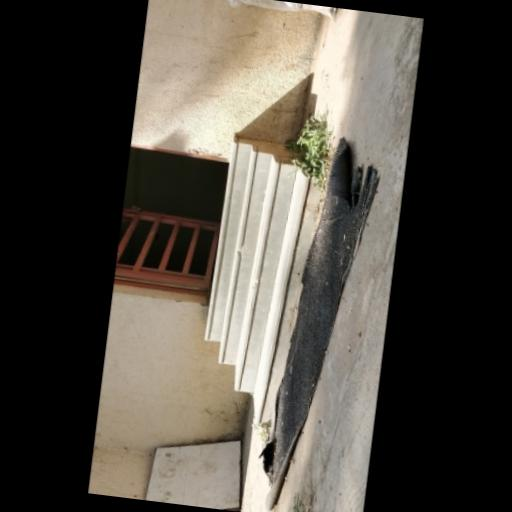stairs: (206, 136, 320, 421)
